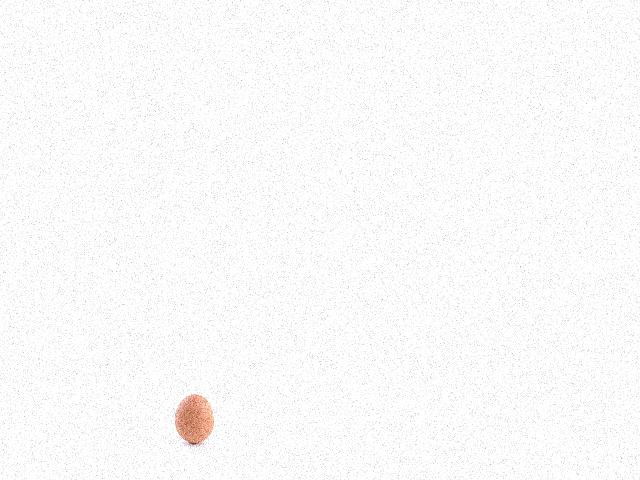egg: (173, 394, 213, 443)
